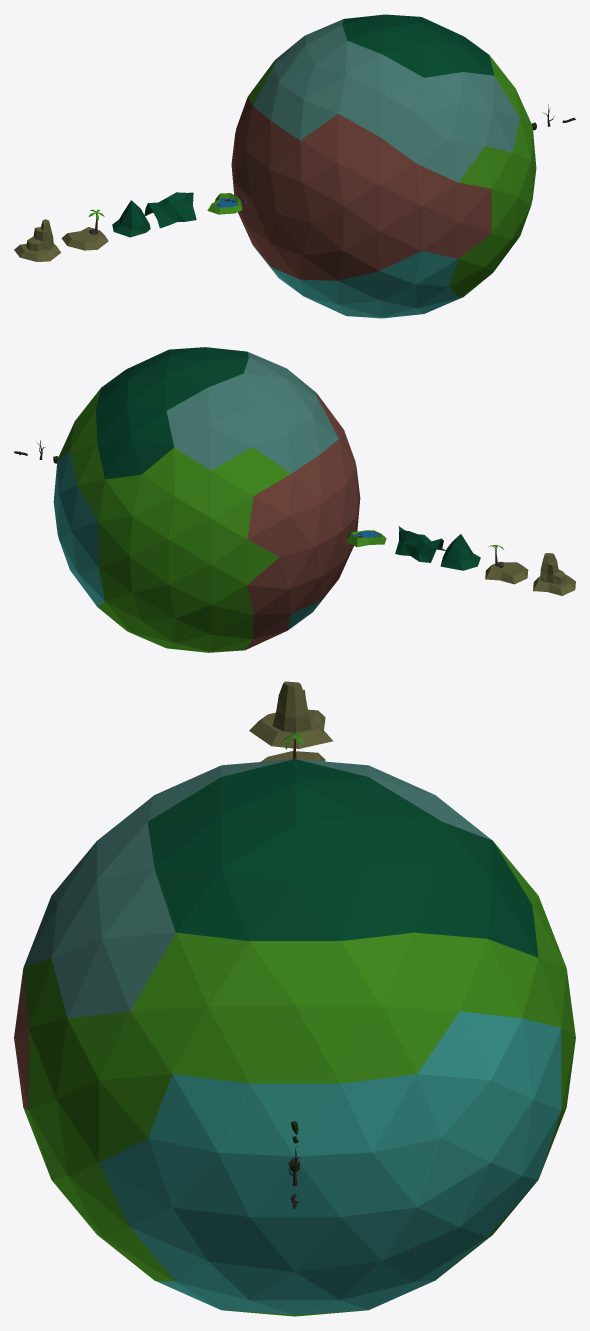
The model's file is flag.FBX.
3 views of the same model, one above another, from view 1: azimuth 30°, elevation 25°; view 2: azimuth 150°, elevation 25°; view 3: azimuth 270°, elevation 25° (orthographic). The views are drawn at different scales.
Parts seen in each view (by area): view 1: mtBig_connectA, seaBig_islandA, T002, U002, E014, N002, H007, S002, P002, E013, G007, V002 (+90 smaller); view 2: seaBig_islandA, T001, U001, mtBig_connectA, E012, H006, N001, S001, P001, G006, E011, V001 (+90 smaller); view 3: H009, E017, E018, G009, seaBig_islandA, S008, S007, I009, F017, F018, B017, B018 (+110 smaller).
Boxes of the visible parts, bbox=[...] form: mtBig_connectA: bbox=[144, 192, 196, 228]; seaBig_islandA: bbox=[14, 219, 60, 261]; T002: bbox=[337, 114, 379, 162]; U002: bbox=[338, 137, 380, 184]; E014: bbox=[379, 185, 421, 230]; N002: bbox=[339, 92, 381, 136]; H007: bbox=[379, 206, 421, 250]; S002: bbox=[300, 114, 338, 162]; P002: bbox=[380, 114, 416, 162]; E013: bbox=[379, 231, 421, 270]; G007: bbox=[422, 206, 460, 250]; V002: bbox=[379, 137, 415, 184]; seaBig_islandA: bbox=[533, 553, 575, 595]; T001: bbox=[211, 447, 253, 495]; U001: bbox=[210, 471, 253, 518]; mtBig_connectA: bbox=[395, 526, 445, 562]; E012: bbox=[169, 519, 211, 564]; H006: bbox=[168, 539, 210, 584]; N001: bbox=[209, 425, 251, 470]; S001: bbox=[252, 447, 290, 495]; P001: bbox=[174, 447, 210, 496]; G006: bbox=[130, 539, 168, 584]; E011: bbox=[169, 565, 211, 604]; V001: bbox=[175, 471, 211, 518]; H009: bbox=[249, 1005, 340, 1083]; E017: bbox=[295, 1005, 381, 1083]; E018: bbox=[208, 1005, 294, 1083]; G009: bbox=[250, 1083, 339, 1155]; seaBig_islandA: bbox=[249, 681, 333, 748]; S008: bbox=[382, 933, 459, 1011]; S007: bbox=[130, 933, 207, 1010]; I009: bbox=[249, 941, 340, 1004]; F017: bbox=[295, 941, 381, 1006]; F018: bbox=[208, 941, 294, 1006]; B017: bbox=[341, 1074, 416, 1152]; B018: bbox=[173, 1074, 248, 1152].
Bounding box in the file's own units: 7937 × 3791 × 3791.
